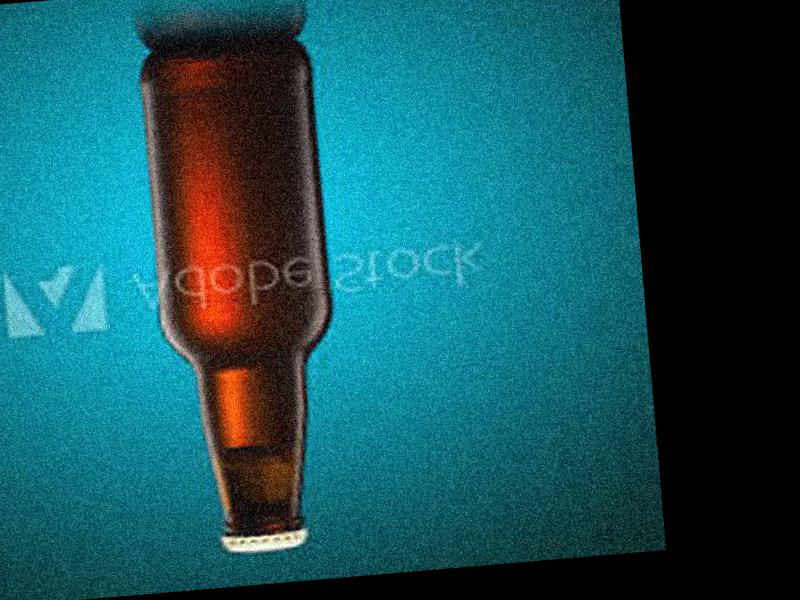Beer: (138, 33, 355, 558)
